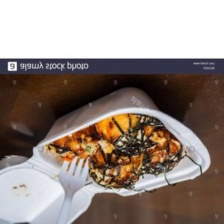foam_box: (0, 82, 214, 224)
